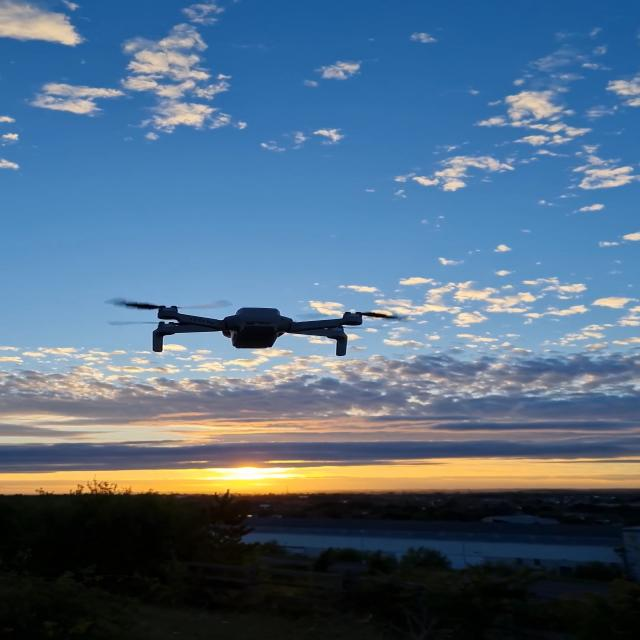Drone: (131, 307, 370, 357)
